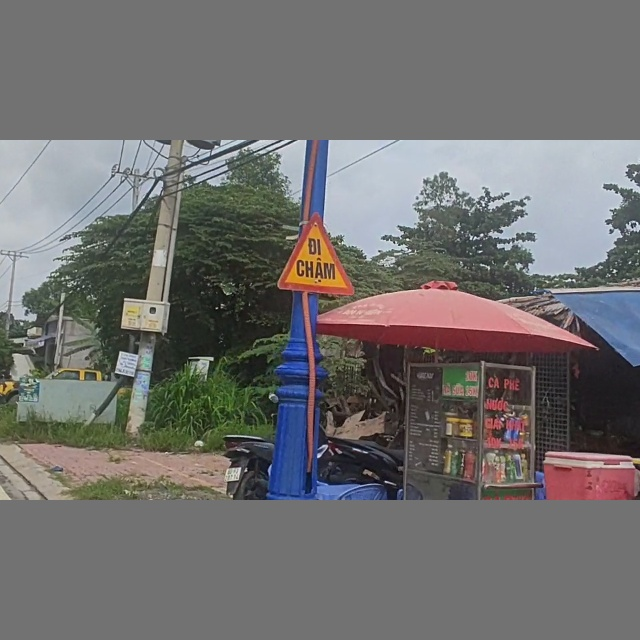W.245a: (276, 215, 359, 299)
